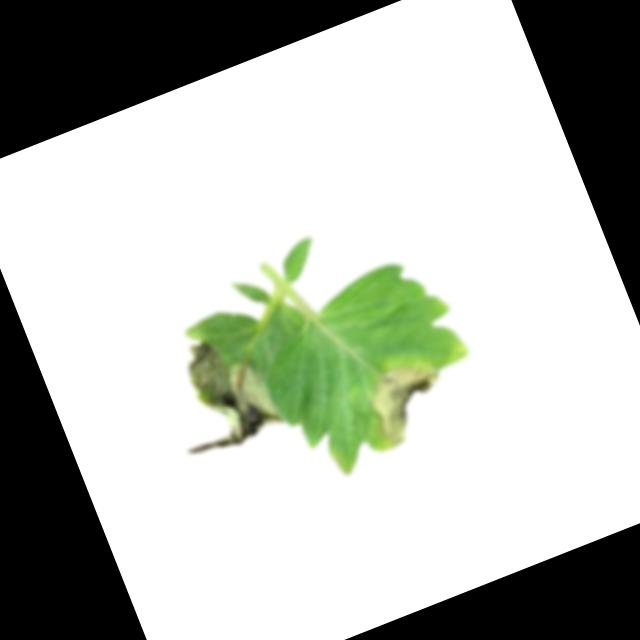Late_blight: (153, 322, 290, 465), (357, 347, 462, 454)
